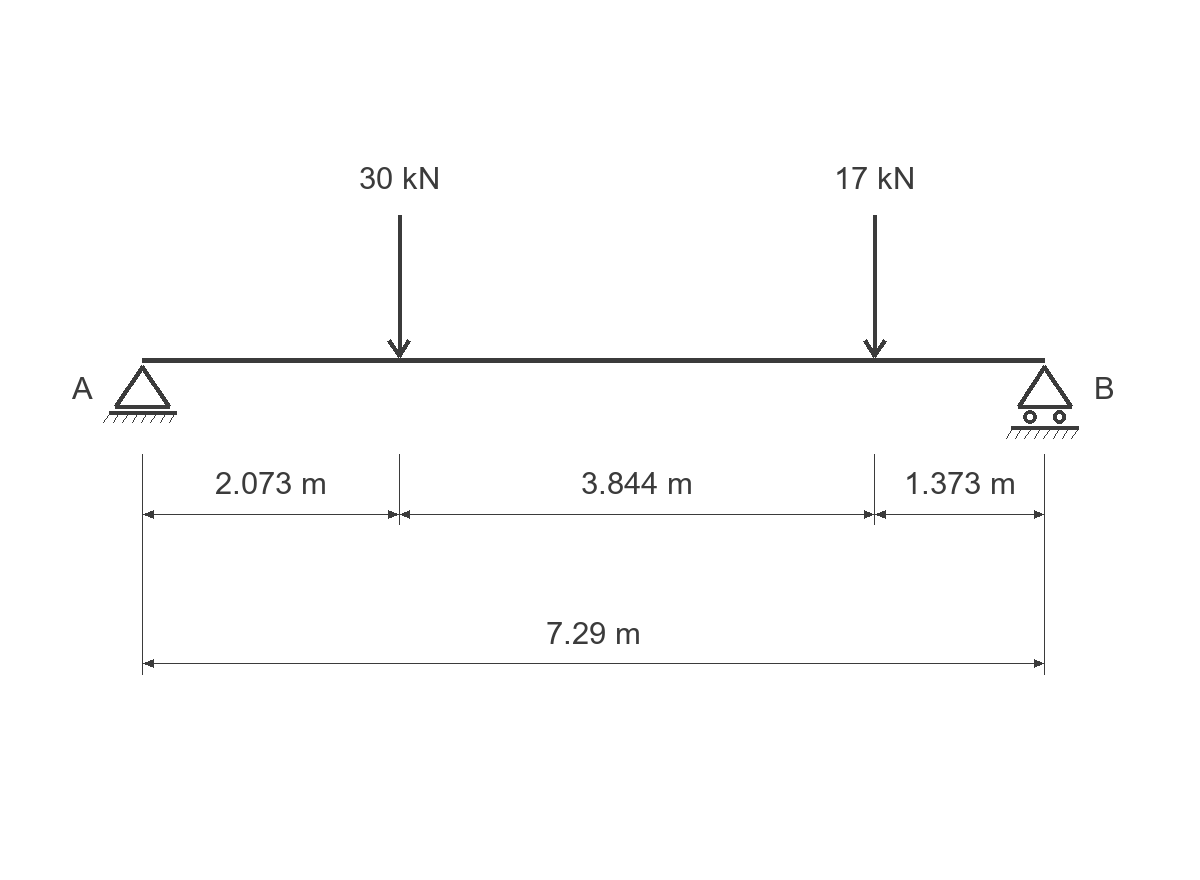pin_support: (103, 365, 177, 423)
point_load: (387, 215, 411, 358), (863, 215, 887, 358)
roller_support: (1006, 365, 1079, 439)
